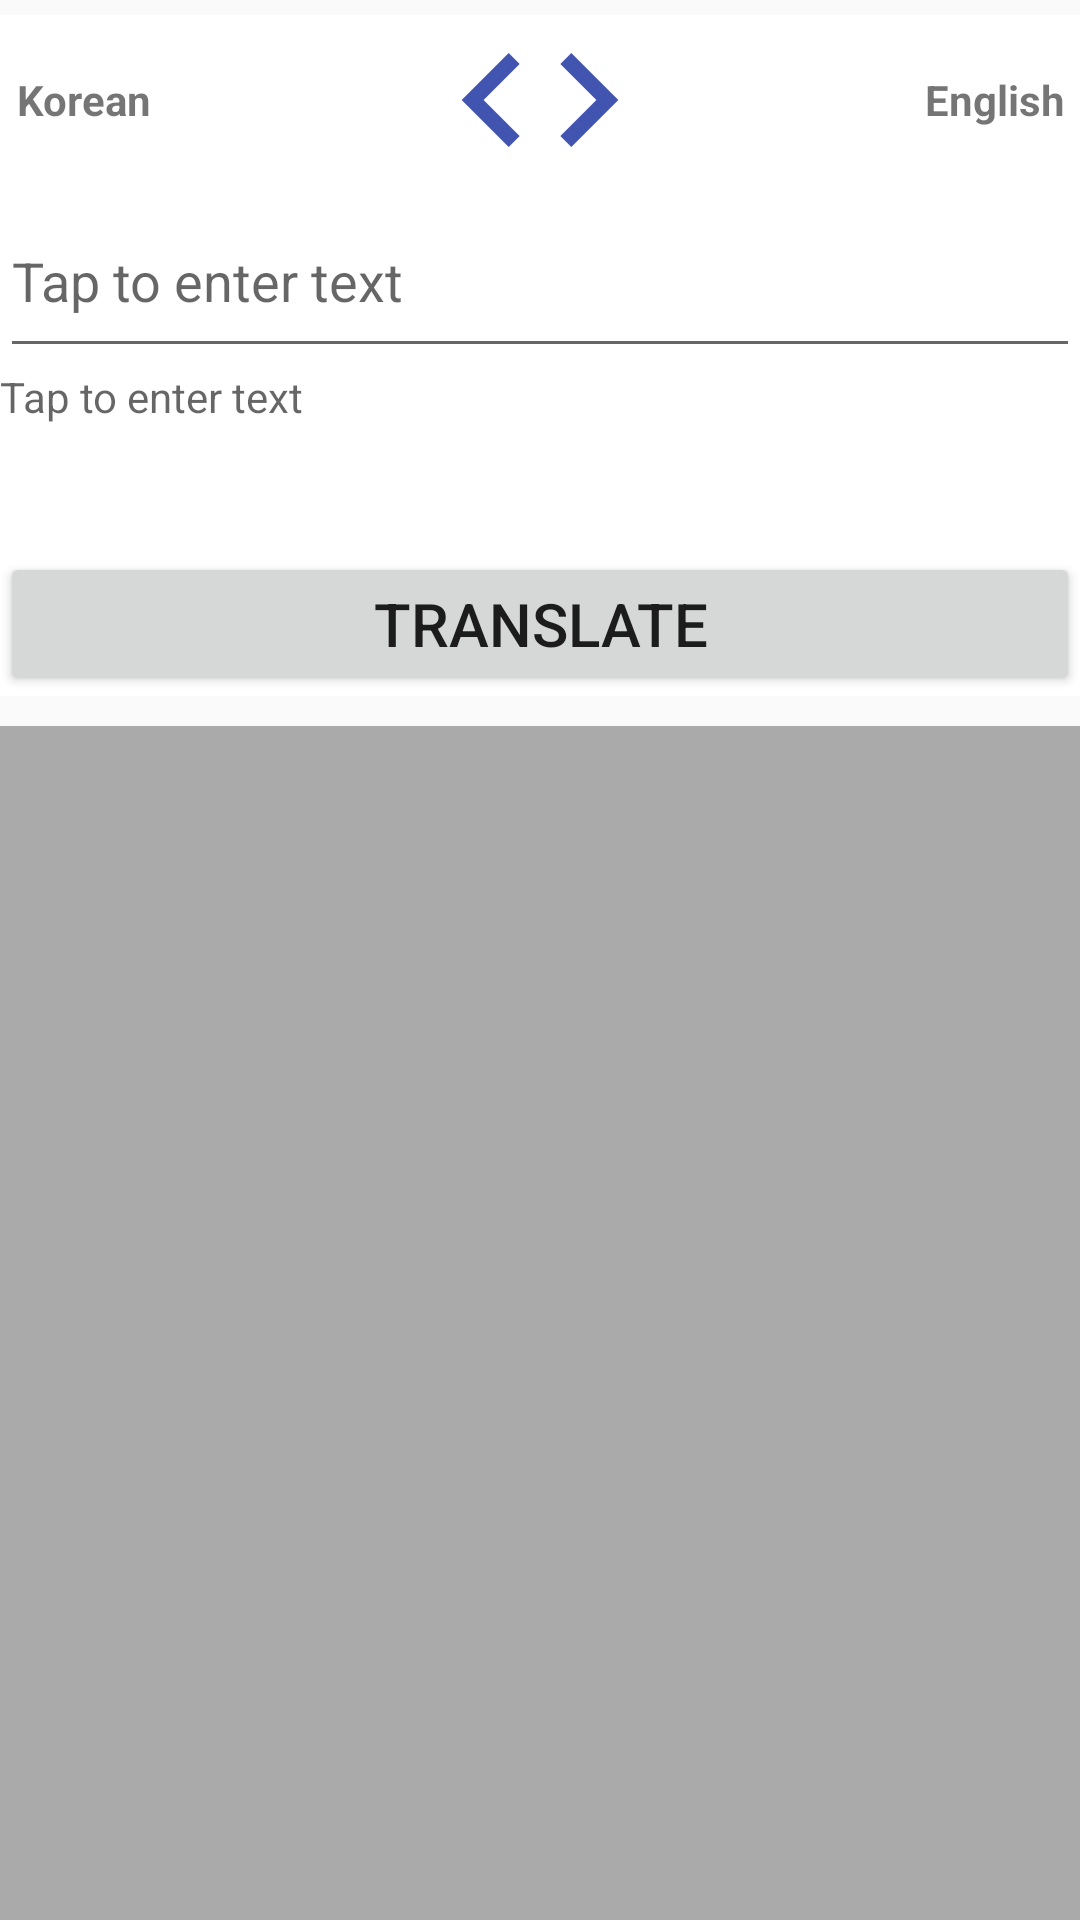

Locate icon controls on the screen. Image size 1080×1920, boxes as (x1, y1, x2, y2).
arr: (462, 53, 618, 147)
